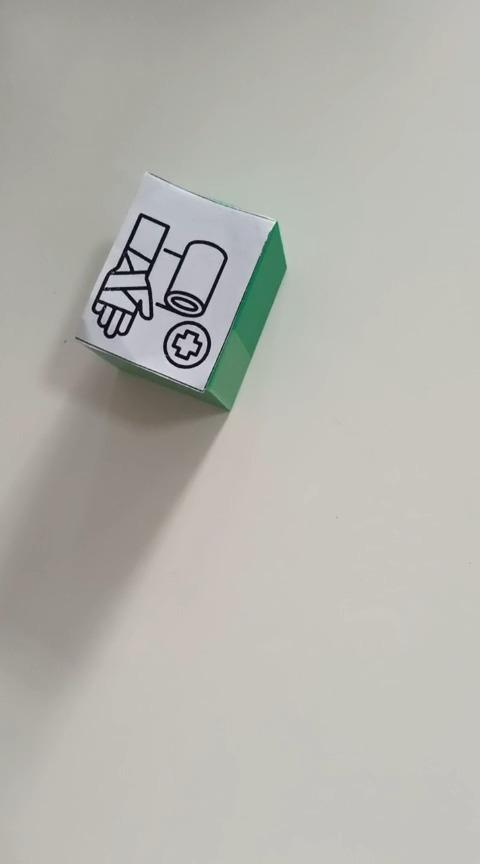Bandages: (73, 170, 287, 412)
